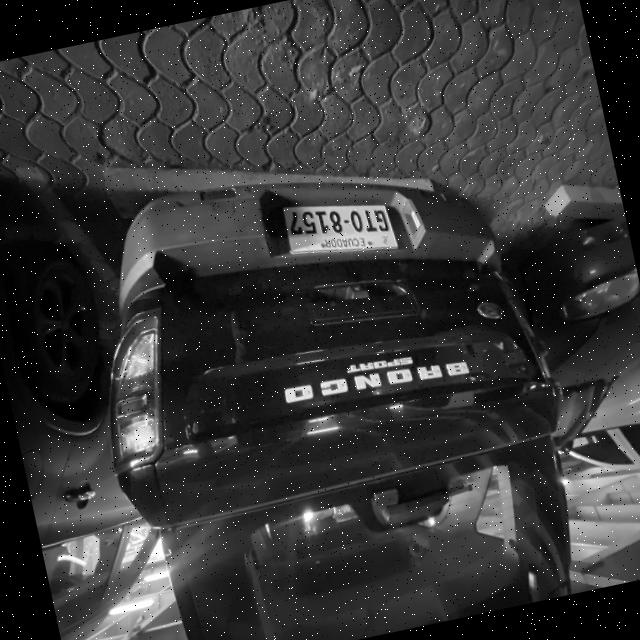Placa: (282, 205, 396, 252)
